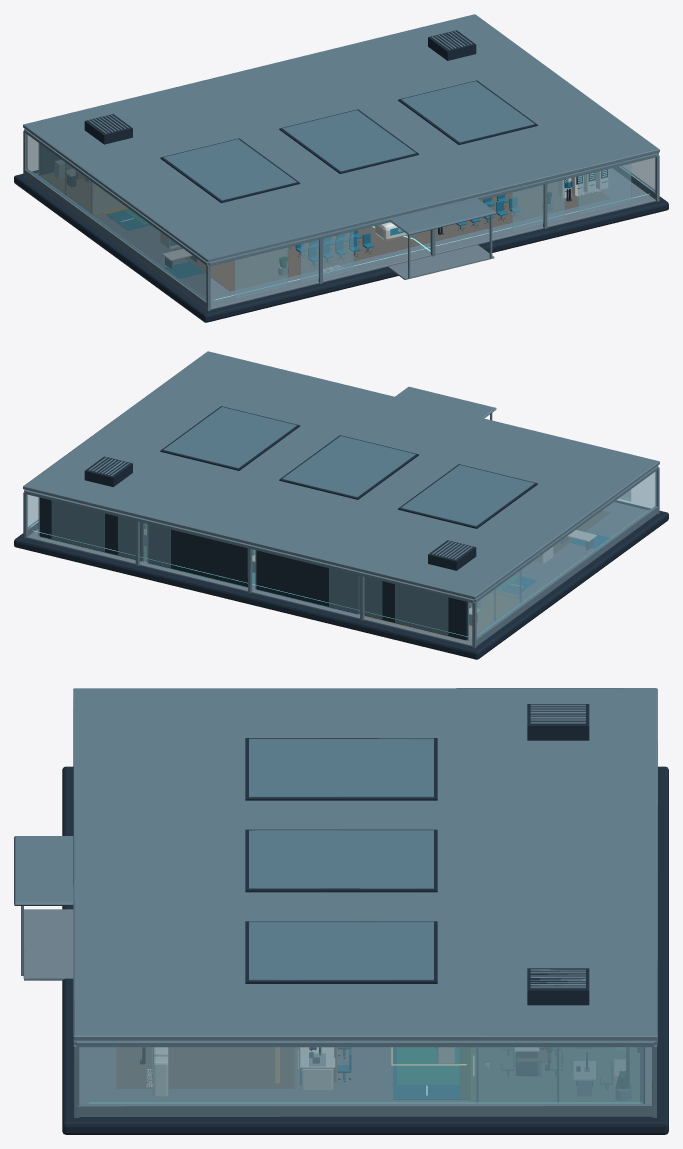
Rendered from integrated_governance_hall_chatgpt_v73.glb.
3 views of the same model, one above another, from view 1: azimuth 30°, elevation 25°; view 2: azimuth 150°, elevation 25°; view 3: azimuth 270°, elevation 25° (orthographic). The views are drawn at different scales.
Visible parts, largest first — view 1: ROOF_GEOMETRY, SHELL_GEOMETRY, V38_public floor inlay, WAITING_GEOMETRY, ZONE_ITEMS_GEOMETRY, FRONT_DESK_GEOMETRY; view 2: ROOF_GEOMETRY, SHELL_GEOMETRY, ZONE_ITEMS_GEOMETRY, ZONE_PROCESS_GEOMETRY, ZONE_DATA_GEOMETRY, ZONE_REGULATION_GEOMETRY, FRONT_DESK_GEOMETRY; view 3: ROOF_GEOMETRY, SHELL_GEOMETRY, ZONE_REGULATION_GEOMETRY, V38_public floor inlay, V38_verification spine inlay, FRONT_DESK_GEOMETRY, TRANSFER_GEOMETRY, WAITING_GEOMETRY.
Boxes of the visible parts, x1,y1,x2,y2 form: ROOF_GEOMETRY: (23,14,659,262); SHELL_GEOMETRY: (14,129,668,322); V38_public floor inlay: (174,181,609,291); WAITING_GEOMETRY: (278,169,607,275); ZONE_ITEMS_GEOMETRY: (39,143,124,214); FRONT_DESK_GEOMETRY: (160,222,430,278); ROOF_GEOMETRY: (23,351,659,599); SHELL_GEOMETRY: (14,386,668,659); ZONE_ITEMS_GEOMETRY: (364,570,521,640); ZONE_PROCESS_GEOMETRY: (255,550,359,614); ZONE_DATA_GEOMETRY: (147,524,255,587); ZONE_REGULATION_GEOMETRY: (38,497,146,561); FRONT_DESK_GEOMETRY: (534,530,609,563); ROOF_GEOMETRY: (73,688,657,1040); SHELL_GEOMETRY: (14,766,668,1134); ZONE_REGULATION_GEOMETRY: (470,1047,645,1103); V38_public floor inlay: (116,1047,294,1087); V38_verification spine inlay: (397,1047,459,1085); FRONT_DESK_GEOMETRY: (300,1047,351,1089); TRANSFER_GEOMETRY: (391,1047,466,1099); WAITING_GEOMETRY: (140,1047,167,1095).
Bounding box in the file's own units: 35.2 × 5.09 × 27.2.
